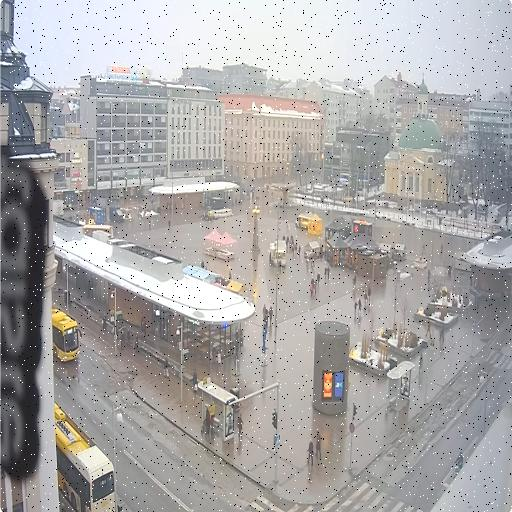bus: (54, 402, 114, 511), (52, 308, 82, 361)
